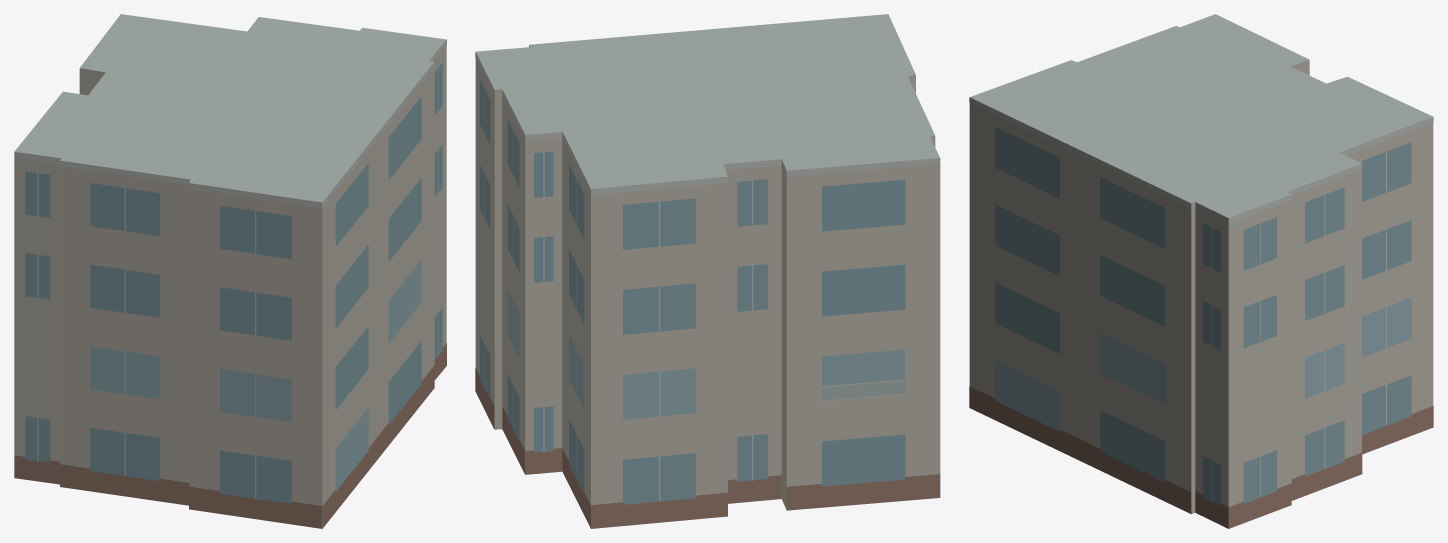
Rendered from survey-upis-32661357.glb.
3 renders of one model, left to right at view 1: azimuth 30°, elevation 25°; view 2: azimuth 150°, elevation 25°; view 3: azimuth 270°, elevation 25°, orthographic. The views are drawn at different scales.
Visible parts, largest first — view 1: survey-upis-32661357.tmp; view 2: survey-upis-32661357.tmp; view 3: survey-upis-32661357.tmp.
Part boxes in pixels (x1,y1,x2,y2): survey-upis-32661357.tmp: (14,14,446,528); survey-upis-32661357.tmp: (475,14,940,528); survey-upis-32661357.tmp: (969,14,1433,528).
Size of the model in its own units: 18.9 by 13.41 by 18.15.
